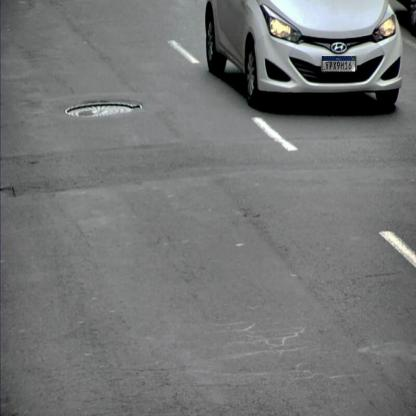PlacaM: (322, 56, 356, 72)
